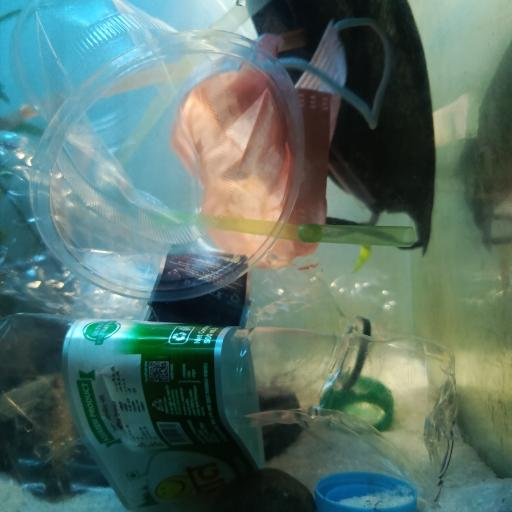bottle_cap: (322, 371, 396, 431), (317, 470, 419, 512)
mask: (170, 23, 384, 263), (247, 0, 437, 257)
plastic_bottle: (0, 131, 387, 395), (1, 311, 459, 512), (47, 251, 398, 339)
plastic_cup: (11, 0, 308, 300)
plastic_straw: (133, 0, 266, 146), (174, 207, 298, 239), (301, 222, 416, 247)
